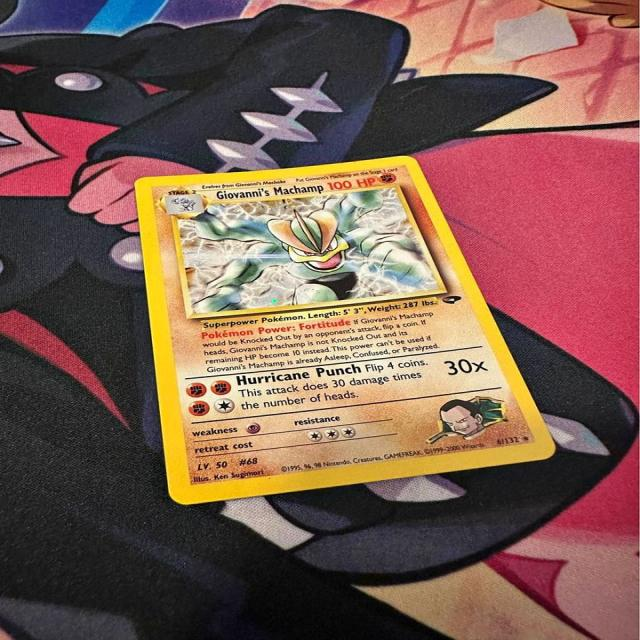card: (134, 155, 557, 505)
